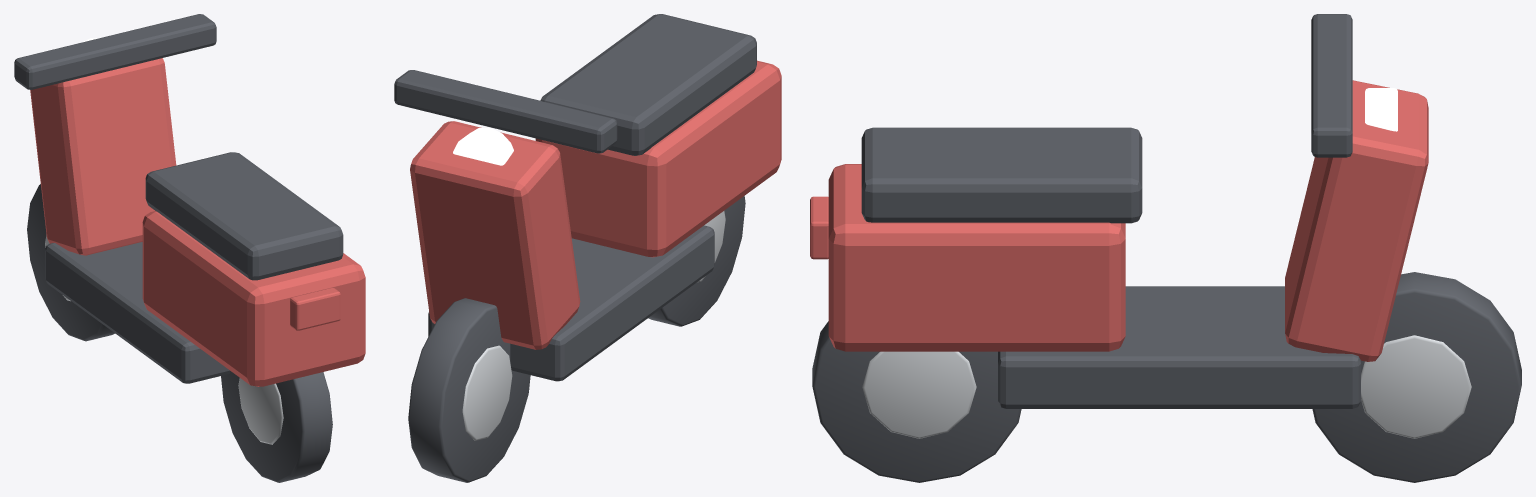
Rendered from SM_Hanoi_Motorbike.fbx.
3 views of the same model, side by side, from view 1: azimuth 30°, elevation 25°; view 2: azimuth 150°, elevation 25°; view 3: azimuth 270°, elevation 25° (orthographic). The views are drawn at different scales.
Parts seen in each view (by area): view 1: Bike_RearBody, Bike_FrontShield, Bike_Seat, Bike_Deck, BikeWheel_-0.58, Bike_Handlebar, BikeWheel_0.62, BikeHub_-0.58, Bike_Taillight; view 2: Bike_FrontShield, Bike_RearBody, Bike_Seat, Bike_Deck, BikeWheel_0.62, Bike_Handlebar, BikeWheel_-0.58, BikeHub_0.62, Bike_Headlight, BikeHub_-0.58; view 3: Bike_RearBody, Bike_Deck, Bike_Seat, Bike_FrontShield, BikeWheel_0.62, BikeWheel_-0.58, BikeHub_0.62, BikeHub_-0.58, Bike_Handlebar, Bike_Headlight, Bike_Taillight.
Part boxes in pixels (box(x1,y1,x2,y2)): Bike_RearBody: box(142, 211, 365, 386); Bike_FrontShield: box(30, 58, 176, 255); Bike_Seat: box(145, 152, 343, 280); Bike_Deck: box(45, 242, 230, 383); BikeWheel_-0.58: box(221, 371, 332, 482); Bike_Handlebar: box(14, 14, 216, 89); BikeWheel_0.62: box(27, 184, 114, 341); BikeHub_-0.58: box(238, 378, 283, 444); Bike_Taillight: box(290, 287, 340, 330); Bike_FrontShield: box(410, 121, 580, 349); Bike_RearBody: box(535, 60, 781, 257); Bike_Seat: box(540, 14, 756, 155); Bike_Deck: box(428, 225, 714, 381); BikeWheel_0.62: box(408, 298, 530, 482); Bike_Handlebar: box(394, 70, 617, 153); BikeWheel_-0.58: box(648, 196, 745, 326); BikeHub_0.62: box(462, 345, 512, 440); Bike_Headlight: box(453, 128, 513, 165); BikeHub_-0.58: box(697, 211, 725, 282); Bike_RearBody: box(828, 164, 1125, 351); Bike_Deck: box(998, 286, 1360, 408); Bike_Seat: box(861, 127, 1142, 223); Bike_FrontShield: box(1285, 80, 1428, 361); BikeWheel_0.62: box(1312, 272, 1521, 482); BikeWheel_-0.58: box(812, 321, 1021, 482); BikeHub_0.62: box(1361, 335, 1471, 438); BikeHub_-0.58: box(862, 351, 976, 438); Bike_Handlebar: box(1311, 14, 1352, 157); Bike_Headlight: box(1365, 88, 1397, 131); Bike_Taillight: box(810, 196, 828, 259).
Bounding box in the file's own units: 0.68 × 1.08 × 1.72.
